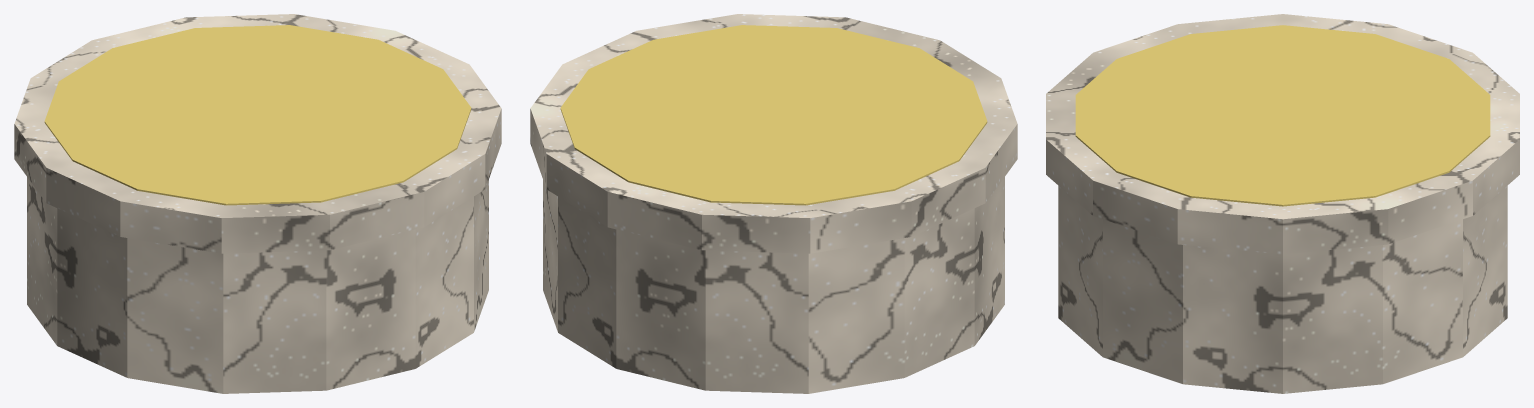
Rendered from formaggio_malga.obj.
3 views of the same model, side by side, from view 1: azimuth 30°, elevation 25°; view 2: azimuth 150°, elevation 25°; view 3: azimuth 270°, elevation 25° (orthographic).
Visible parts, largest first — view 1: formaggio_malga; view 2: formaggio_malga; view 3: formaggio_malga.
Boxes of the visible parts, box(x1,y1,x2,y2) form: formaggio_malga: box(14, 14, 501, 393); formaggio_malga: box(530, 14, 1017, 393); formaggio_malga: box(1046, 14, 1519, 393).
Bounding box in the file's own units: 0.274 × 0.113 × 0.2672.
3 materials, 2 textured.
